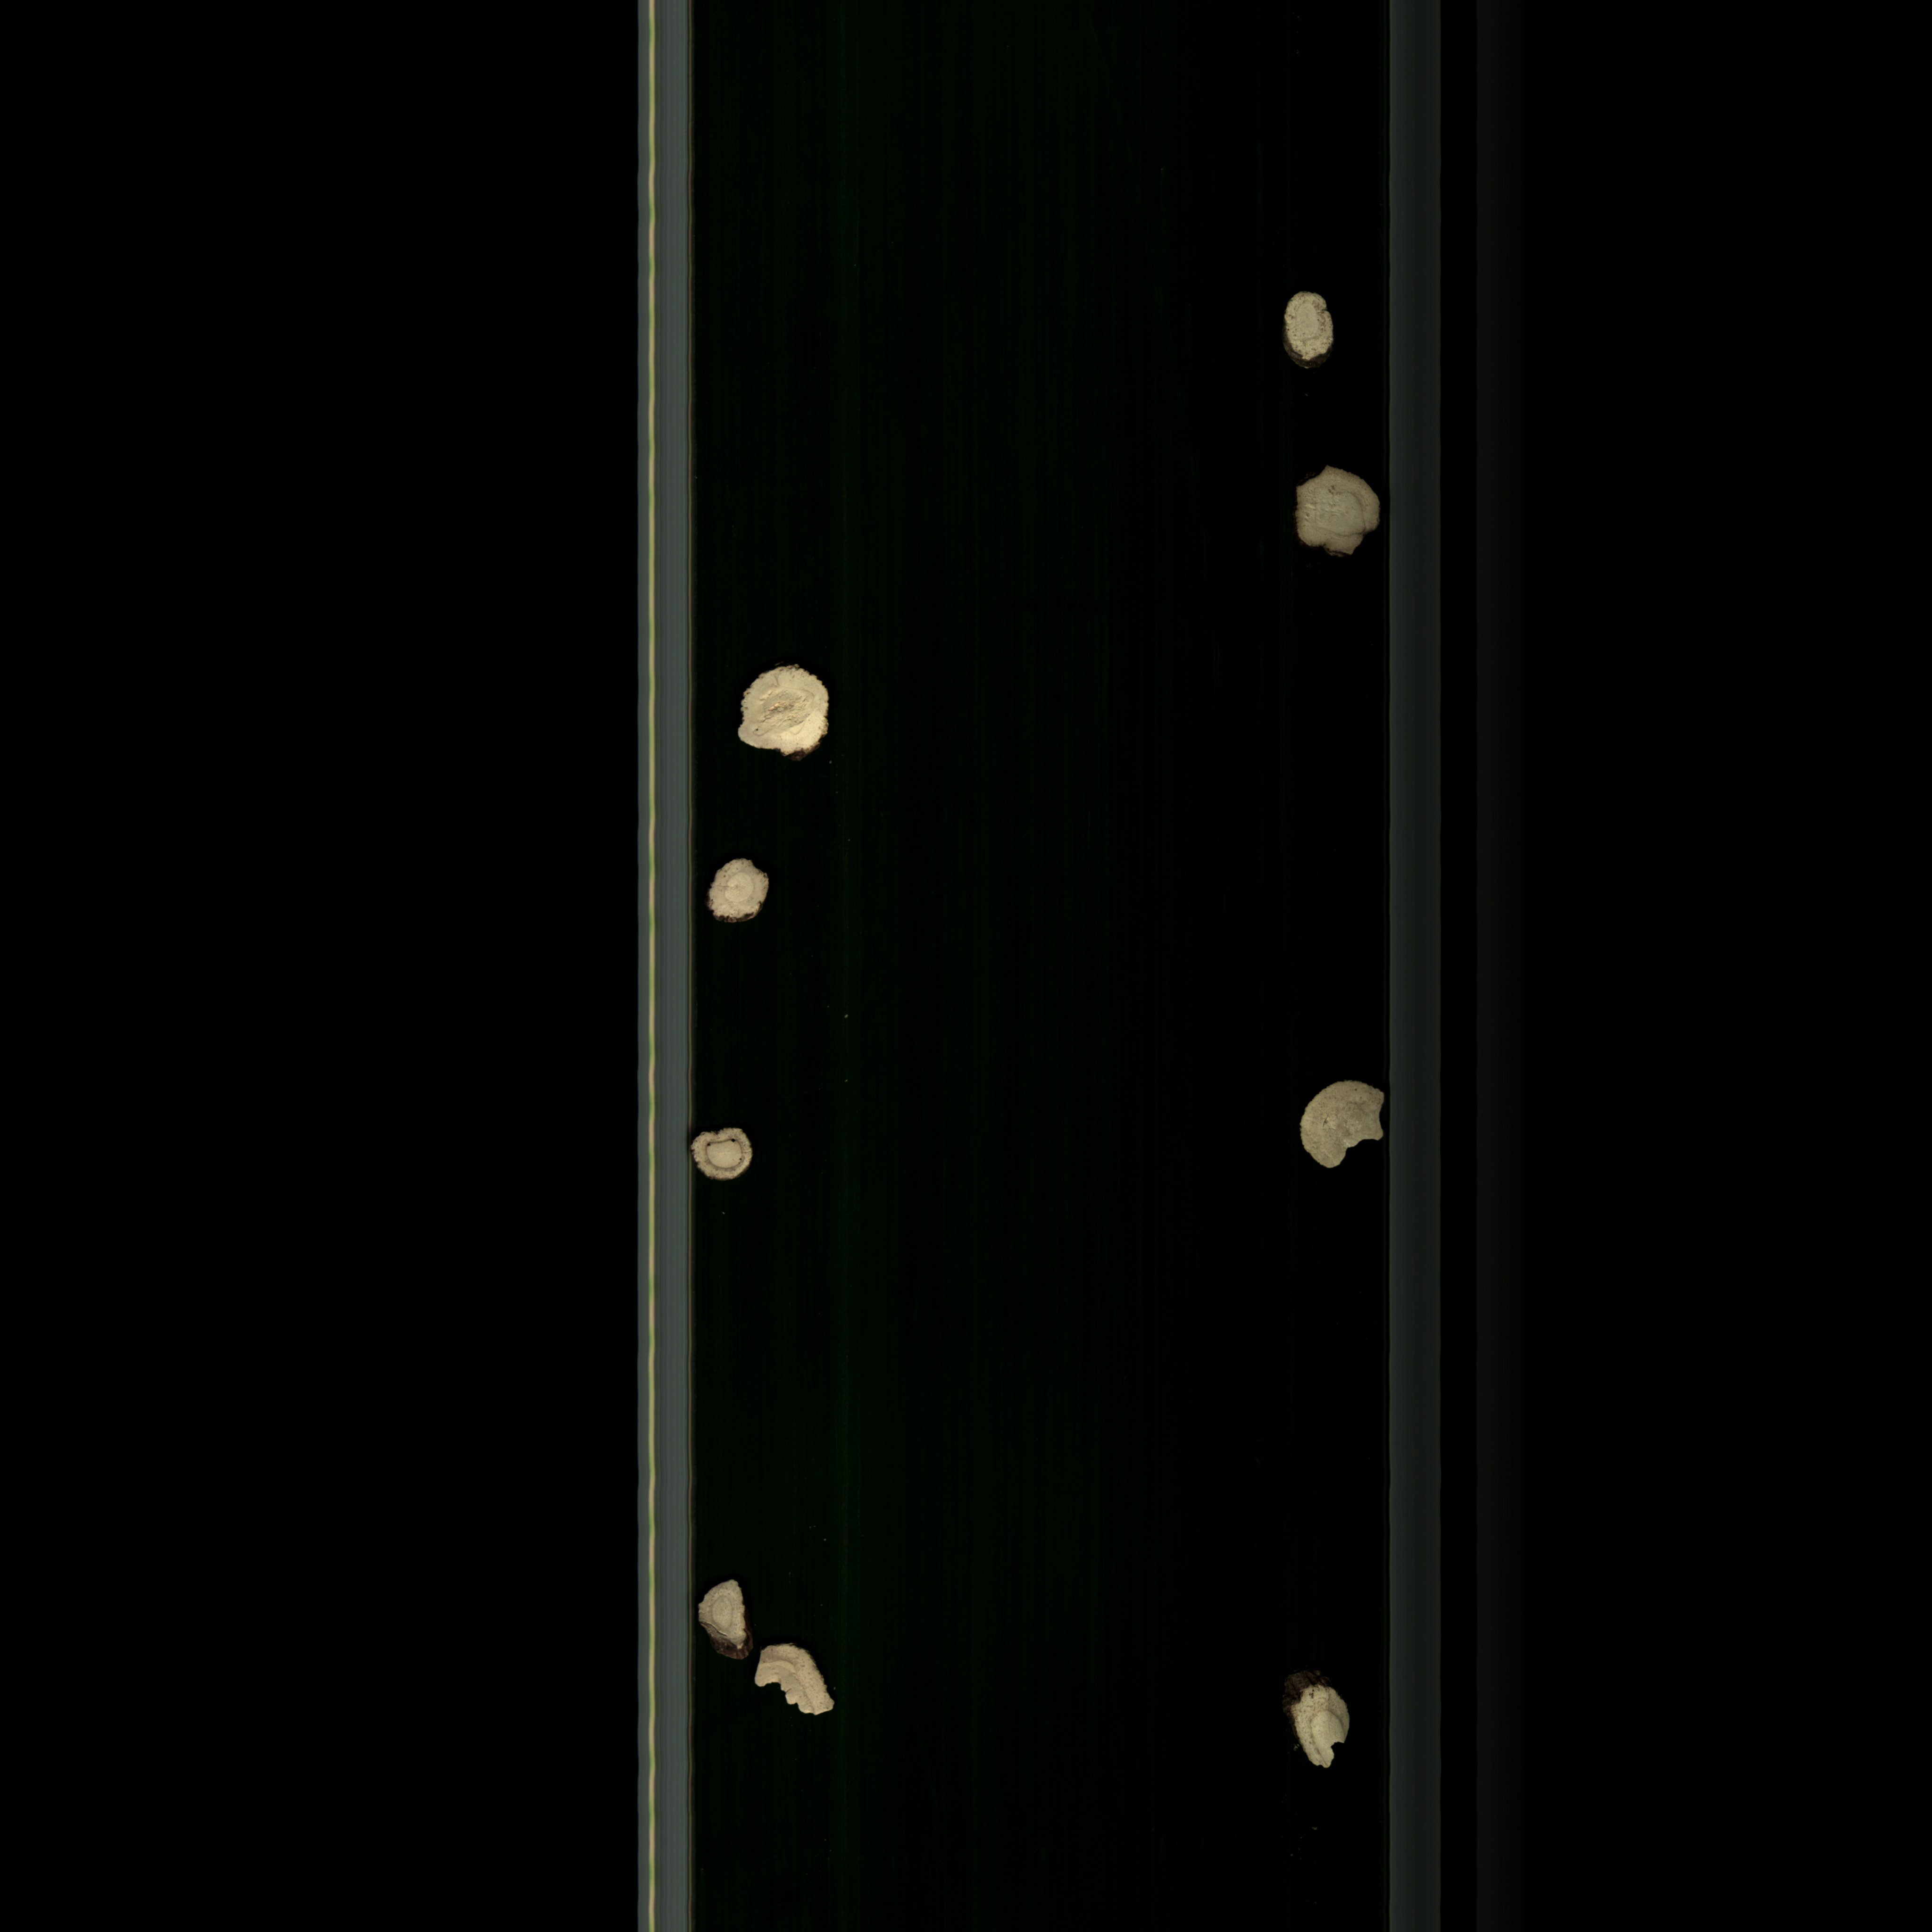debris: (729, 651, 860, 786), (1249, 1663, 1366, 1787), (1279, 1069, 1401, 1175), (747, 1640, 856, 1729), (704, 849, 775, 934)
distortion: (697, 1578, 757, 1672)
hole: (685, 1123, 775, 1191)
moldy: (1284, 455, 1382, 571)
